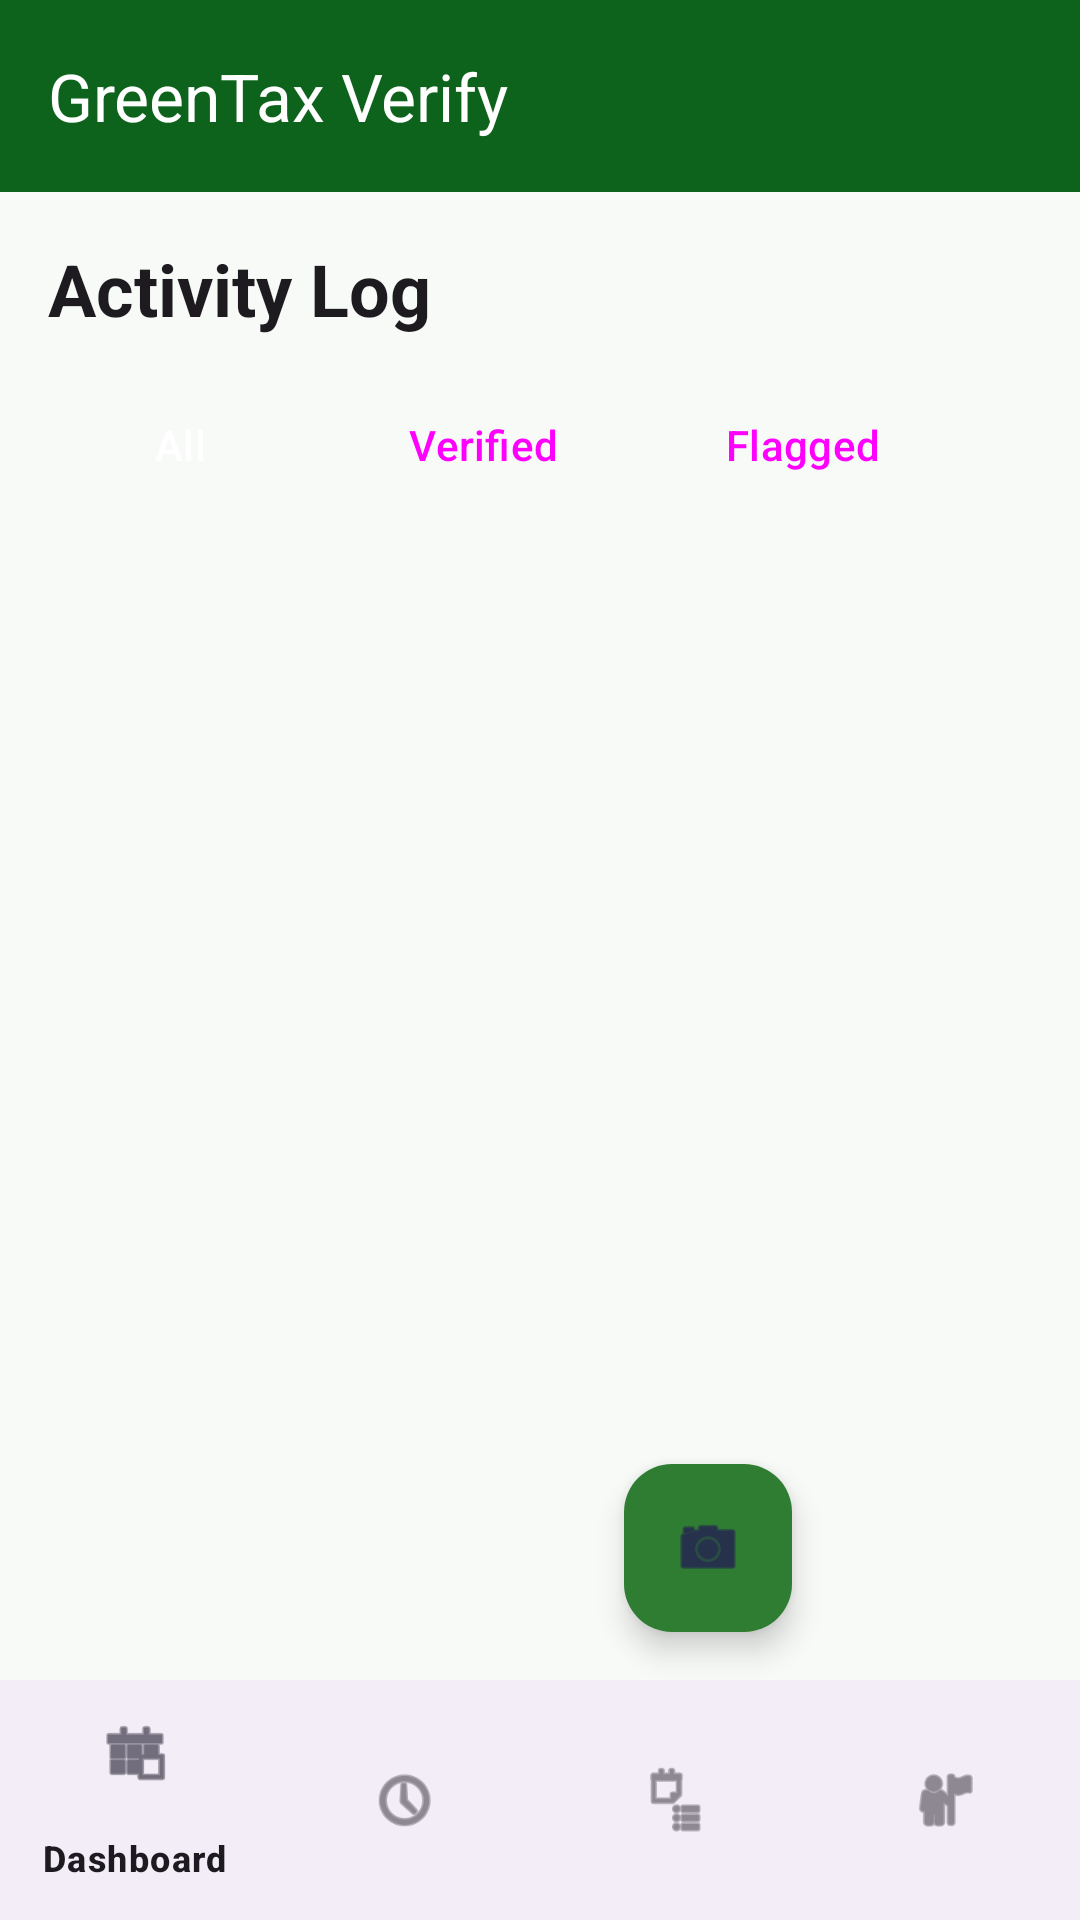

Locate icon controls on the screen. Image size 1080×1920, boxes as {"x1": x1, "y1": y1, "x2": x2, "y2": y2}.
Add photo: {"x1": 624, "y1": 1464, "x2": 792, "y2": 1632}
